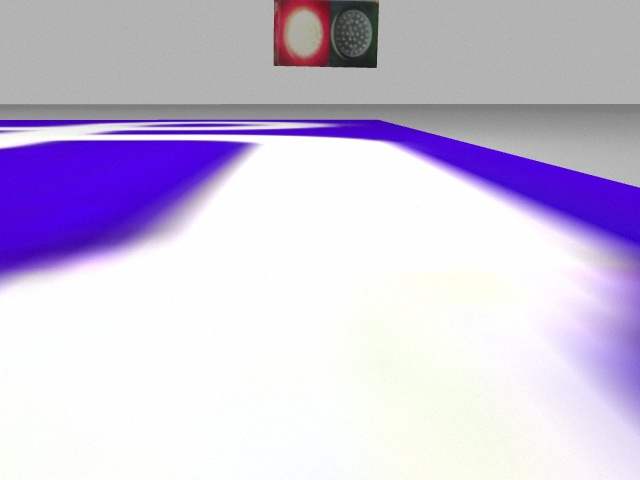red: (272, 2, 329, 66)
